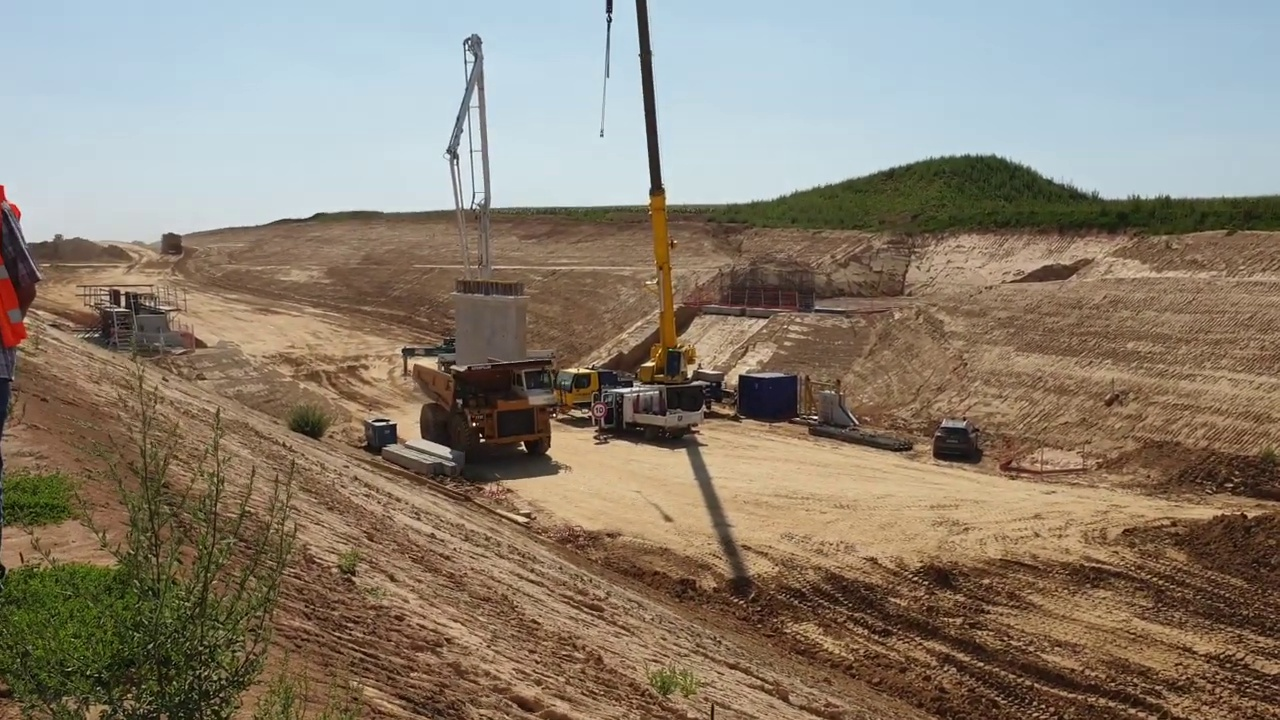crane: (554, 1, 718, 445)
truck: (408, 354, 557, 472)
